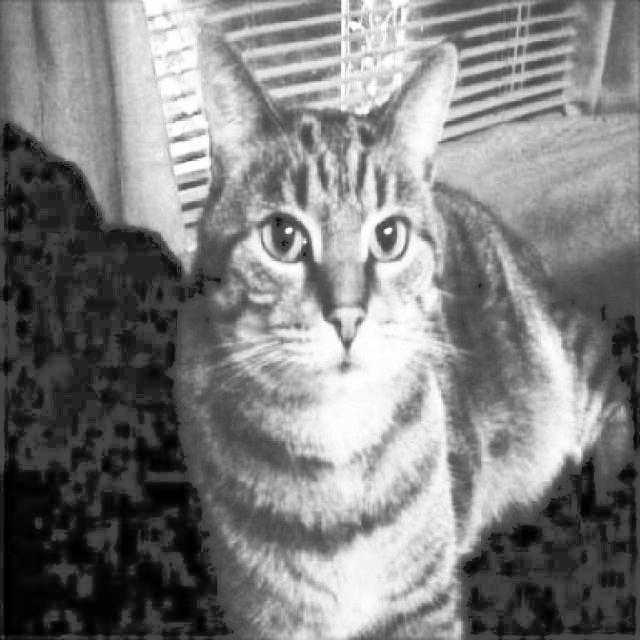Cat: (175, 18, 631, 640)
